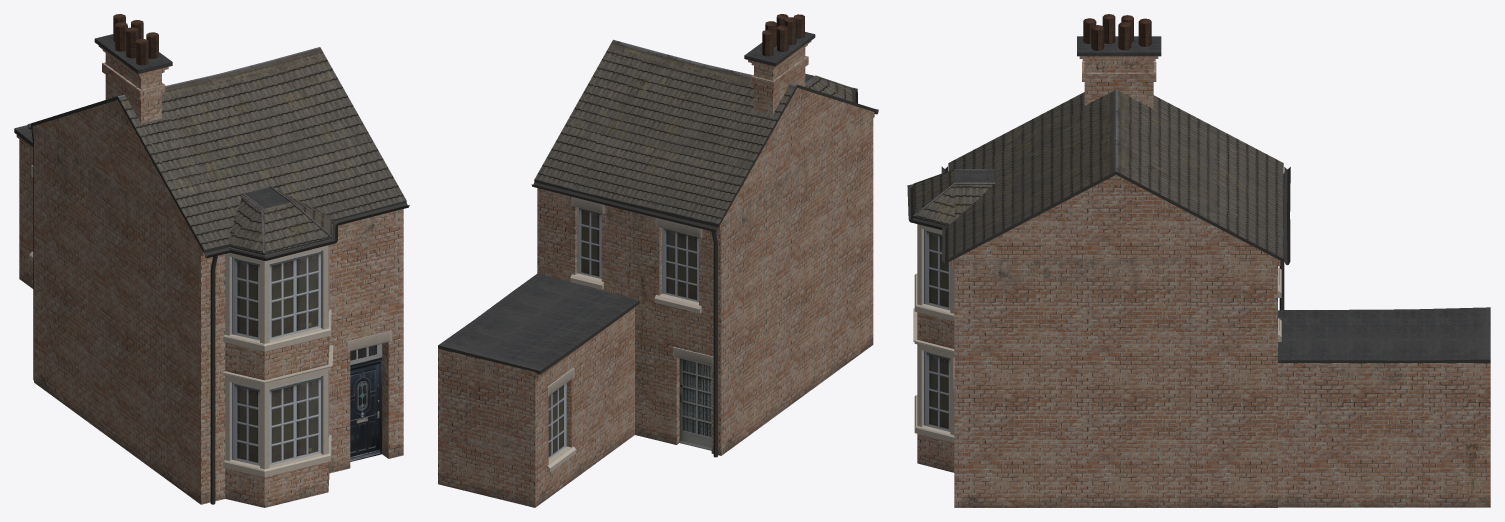
File: ukterracedvictorian10bm.FBX
The picture shows the model from 3 angles, left to right: view 1: azimuth 30°, elevation 25°; view 2: azimuth 150°, elevation 25°; view 3: azimuth 270°, elevation 25°; orthographic projection. The views are drawn at different scales.
Parts seen in each view (by area): view 1: Object003; view 2: Object003; view 3: Object003.
Boxes of the visible parts, x1,y1,x2,y2 form: Object003: [14, 14, 409, 507]; Object003: [438, 14, 878, 507]; Object003: [907, 14, 1490, 507].
Bounding box in the file's own units: 560 × 1093 × 1441.
